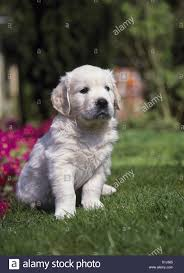dog_sitting: (15, 62, 121, 221)
